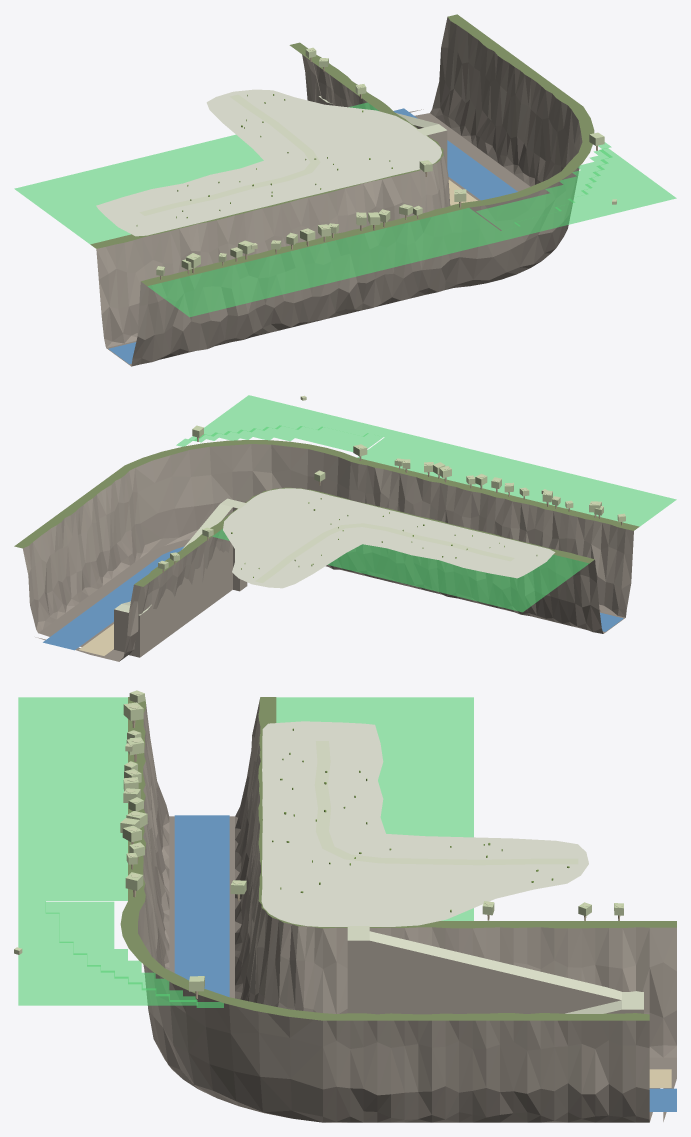
File: recodo.glb
The picture shows the model from 3 angles, top to bottom: view 1: azimuth 30°, elevation 25°; view 2: azimuth 150°, elevation 25°; view 3: azimuth 270°, elevation 25°; orthographic projection. The views are drawn at different scales.
Parts seen in each view (by area): view 1: RecodoSurCanyon, RecodoEsteCanyon, AutoForest_Recodo, RecodoMeadow, AutoForest_RecodoBorde, RecodoRio, RecodoPath; view 2: RecodoEsteCanyon, RecodoSurCanyon, AutoForest_Recodo, RecodoMeadow, RecodoBajadaRampa-col, RecodoRio, AutoForest_RecodoBorde, RecodoPath, RecodoBajadaDescanso-col, RecodoBajadaMeadow, RecodoPlayaMeadow; view 3: RecodoEsteCanyon, AutoForest_Recodo, RecodoMeadow, RecodoSurCanyon, RecodoBajadaRampa-col, RecodoRio, AutoForest_RecodoBorde, RecodoBajadaMeadow, RecodoPath, RecodoBajadaRellano-col.
Part boxes in pixels (box(x1,y1,x2,y2)): RecodoSurCanyon: box(90, 170, 469, 366); RecodoEsteCanyon: box(289, 14, 594, 287); AutoForest_Recodo: box(14, 102, 676, 316); RecodoMeadow: box(96, 89, 441, 236); AutoForest_RecodoBorde: box(476, 142, 612, 230); RecodoRio: box(108, 108, 517, 364); RecodoPath: box(139, 94, 320, 215); RecodoEsteCanyon: box(14, 440, 355, 661); RecodoSurCanyon: box(311, 457, 639, 633); AutoForest_Recodo: box(188, 395, 676, 612); RecodoMeadow: box(223, 488, 555, 588); RecodoBajadaRampa-col: box(147, 507, 232, 651); RecodoRio: box(43, 546, 623, 650); AutoForest_RecodoBorde: box(176, 425, 383, 451); RecodoPath: box(255, 523, 514, 583); RecodoBajadaDescanso-col: box(114, 609, 147, 657); RecodoBajadaMeadow: box(114, 498, 246, 615); RecodoPlayaMeadow: box(79, 624, 113, 655); RecodoEsteCanyon: box(120, 901, 676, 1122); AutoForest_Recodo: box(18, 697, 473, 1005); RecodoMeadow: box(261, 721, 588, 926); RecodoSurCanyon: box(128, 697, 276, 999); RecodoBajadaRampa-col: box(369, 940, 621, 1014); RecodoRio: box(174, 815, 676, 1111); AutoForest_RecodoBorde: box(46, 901, 223, 1007); RecodoBajadaMeadow: box(347, 926, 643, 1013); RecodoPath: box(314, 741, 578, 865); RecodoBajadaRellano-col: box(347, 940, 369, 1013).
Size of what is drawn, in the model's own units: 140 by 28.82 by 121.
